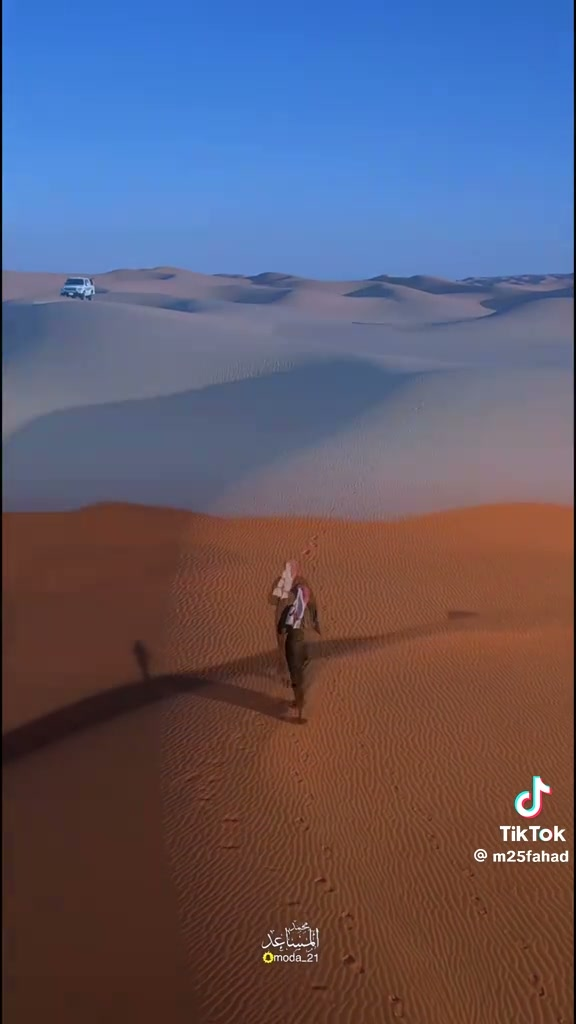human_footprint: (277, 577, 319, 719), (410, 804, 441, 851), (193, 761, 223, 802), (461, 869, 487, 916), (294, 734, 317, 770), (217, 815, 241, 849), (529, 969, 550, 1001), (530, 971, 550, 1001), (339, 911, 354, 944), (530, 972, 546, 998), (342, 954, 363, 973), (314, 875, 335, 893), (388, 994, 403, 1018), (472, 895, 486, 915), (389, 769, 399, 794), (340, 911, 353, 930), (294, 815, 309, 831), (290, 766, 303, 784), (197, 788, 212, 802), (286, 898, 300, 911), (321, 843, 331, 861), (311, 983, 327, 990)
